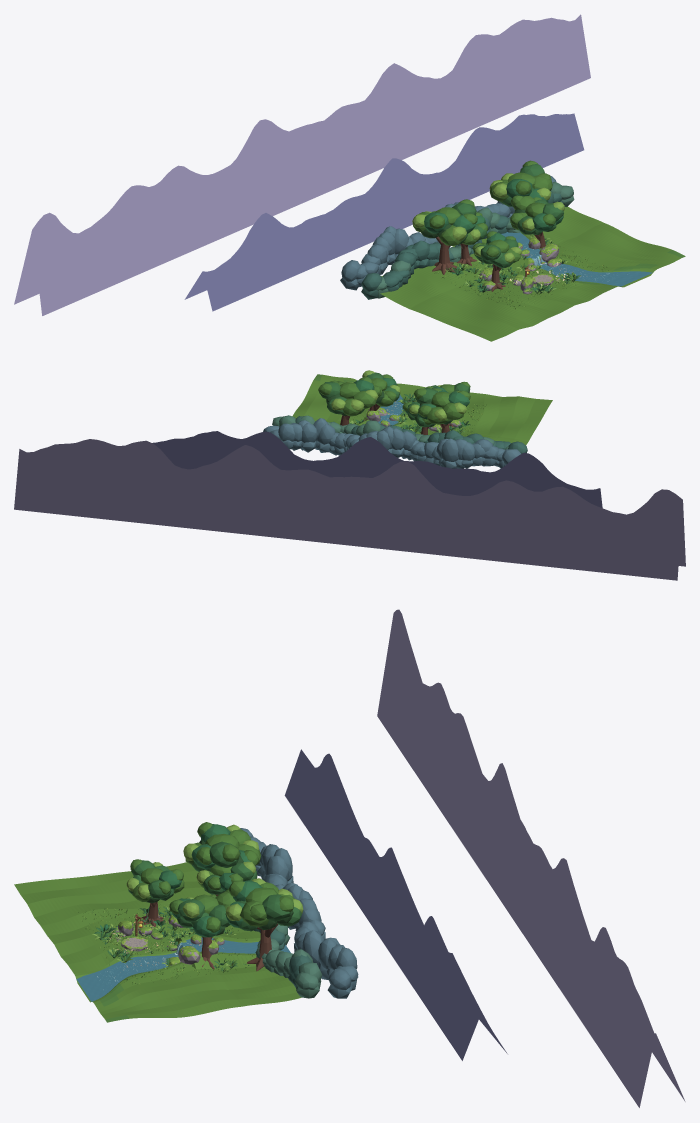
Rendered from cenario.glb.
3 views of the same model, one above another, from view 1: azimuth 30°, elevation 25°; view 2: azimuth 150°, elevation 25°; view 3: azimuth 270°, elevation 25° (orthographic). The views are drawn at different scales.
Visible parts, largest first — view 1: Serra_02, Serra_01, Chao_Clareira, Bosque_Distante, Arvore_03, Arvore_02, Arvore_05, Riacho, Arvore_01, Subosque_Folhas_largas, Arvore_04; view 2: Serra_02, Serra_01, Bosque_Distante, Chao_Clareira, Arvore_05, Arvore_03, Arvore_02, Subosque_Folhas_largas, Arvore_04, Riacho; view 3: Serra_02, Chao_Clareira, Serra_01, Bosque_Distante, Arvore_05, Arvore_03, Riacho, Arvore_02, Arvore_01, Subosque_Folhas_largas, Arvore_04.
Boxes of the visible parts, bbox=[...] form: Serra_02: bbox=[14, 14, 590, 315]; Serra_01: bbox=[184, 113, 584, 311]; Chao_Clareira: bbox=[380, 206, 685, 341]; Bosque_Distante: bbox=[340, 175, 574, 299]; Arvore_03: bbox=[412, 199, 477, 274]; Arvore_02: bbox=[510, 195, 564, 248]; Arvore_05: bbox=[489, 160, 552, 206]; Riacho: bbox=[501, 232, 652, 286]; Arvore_01: bbox=[472, 231, 521, 291]; Subosque_Folhas_largas: bbox=[445, 236, 580, 293]; Arvore_04: bbox=[457, 212, 487, 265]; Serra_02: bbox=[14, 439, 685, 580]; Serra_01: bbox=[152, 431, 602, 507]; Bosque_Distante: bbox=[263, 415, 527, 468]; Chao_Clareira: bbox=[292, 374, 552, 444]; Arvore_05: bbox=[318, 376, 378, 425]; Arvore_03: bbox=[414, 388, 470, 432]; Arvore_02: bbox=[362, 370, 400, 420]; Subosque_Folhas_largas: bbox=[349, 393, 470, 433]; Arvore_04: bbox=[402, 402, 435, 434]; Riacho: bbox=[378, 395, 403, 425]; Serra_02: bbox=[377, 609, 685, 1107]; Chao_Clareira: bbox=[14, 862, 301, 1022]; Serra_01: bbox=[284, 749, 507, 1060]; Bosque_Distante: bbox=[199, 828, 358, 998]; Arvore_05: bbox=[225, 878, 303, 971]; Arvore_03: bbox=[183, 822, 261, 895]; Riacho: bbox=[76, 937, 290, 1001]; Arvore_02: bbox=[169, 888, 235, 969]; Arvore_01: bbox=[126, 859, 184, 926]; Subosque_Folhas_largas: bbox=[92, 906, 249, 971]; Arvore_04: bbox=[196, 861, 257, 894].
Size of the model in its own units: 84.71 by 11.32 by 60.45.
